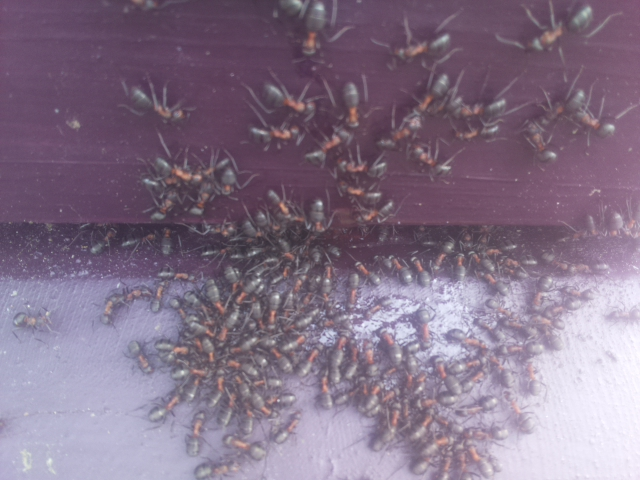ant: (138, 360, 205, 432), (527, 0, 601, 65), (555, 80, 617, 148), (125, 79, 197, 129), (251, 72, 318, 122), (455, 88, 512, 144), (402, 67, 459, 120), (515, 112, 564, 173), (296, 122, 356, 169), (403, 428, 456, 480), (370, 108, 426, 157), (384, 29, 456, 67), (365, 398, 411, 456), (230, 366, 276, 424), (402, 136, 456, 185), (286, 0, 332, 55), (163, 287, 212, 336), (214, 429, 276, 467), (144, 153, 209, 189), (464, 250, 513, 297), (499, 389, 540, 438), (438, 326, 500, 356), (186, 451, 247, 480), (429, 354, 466, 401), (378, 249, 420, 290), (327, 175, 386, 204), (122, 335, 159, 379), (271, 405, 308, 449), (241, 119, 306, 144), (95, 287, 130, 332), (83, 222, 122, 261), (262, 186, 301, 224), (462, 439, 498, 480), (336, 82, 368, 128), (200, 276, 232, 321), (301, 193, 334, 235), (412, 300, 437, 355), (12, 306, 59, 334), (378, 325, 406, 369), (185, 408, 209, 456), (453, 394, 503, 417), (214, 155, 240, 198), (313, 373, 340, 414), (409, 251, 433, 292), (328, 334, 347, 385), (149, 192, 180, 223), (480, 297, 519, 321), (469, 423, 512, 442), (355, 260, 382, 290), (520, 363, 543, 396), (532, 274, 553, 309), (345, 272, 362, 309), (296, 348, 321, 373)
